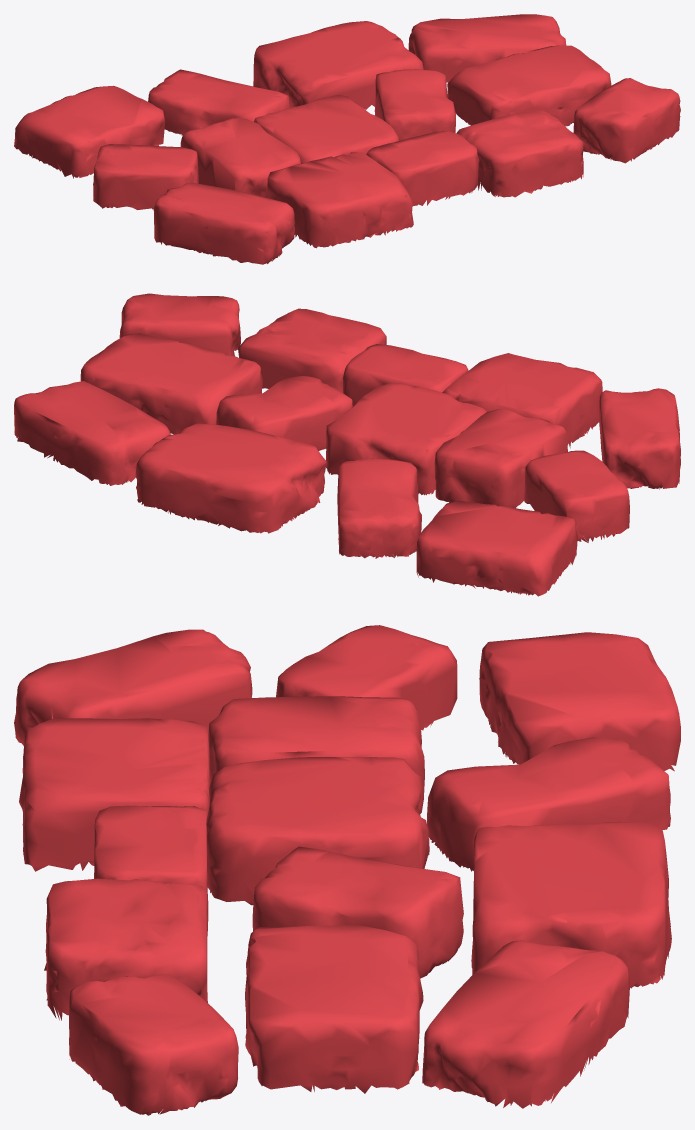
Rendered from SM_Ground_C.fbx.
The picture shows the model from 3 angles, top to bottom: view 1: azimuth 30°, elevation 25°; view 2: azimuth 150°, elevation 25°; view 3: azimuth 270°, elevation 25°; orthographic projection. The views are drawn at different scales.
Parts seen in each view (by area): view 1: SM_GroundC_LOD0; view 2: SM_GroundC_LOD0; view 3: SM_GroundC_LOD0.
Part boxes in pixels (box(x1,y1,x2,y2)): SM_GroundC_LOD0: box(14, 14, 680, 264); SM_GroundC_LOD0: box(14, 293, 680, 596); SM_GroundC_LOD0: box(14, 625, 680, 1115).
Size of what is drawn, in the model's own units: 381 by 34.71 by 247.
